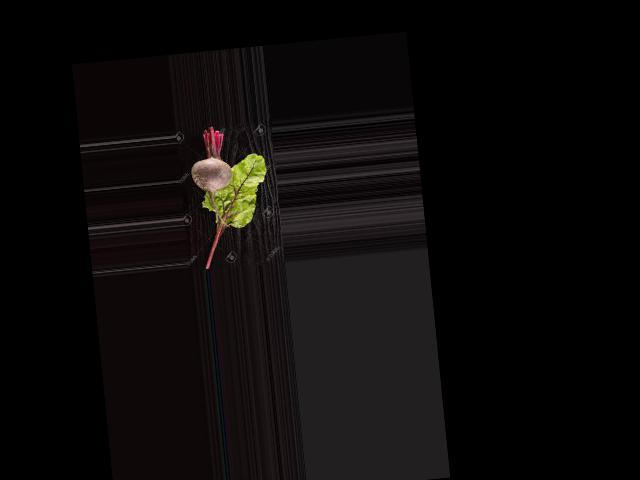beet: (186, 124, 237, 229)
